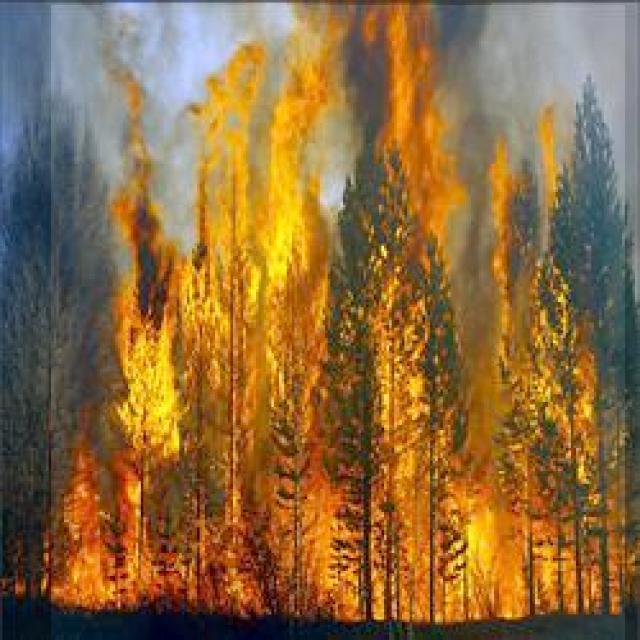Fire: (51, 5, 625, 640)
